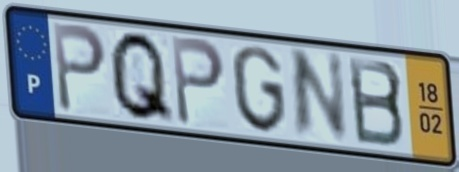B: (345, 53, 408, 150)
G: (228, 42, 290, 137)
N: (289, 47, 351, 142)
P: (168, 33, 228, 130), (50, 20, 110, 116)
Q: (107, 28, 178, 128)
